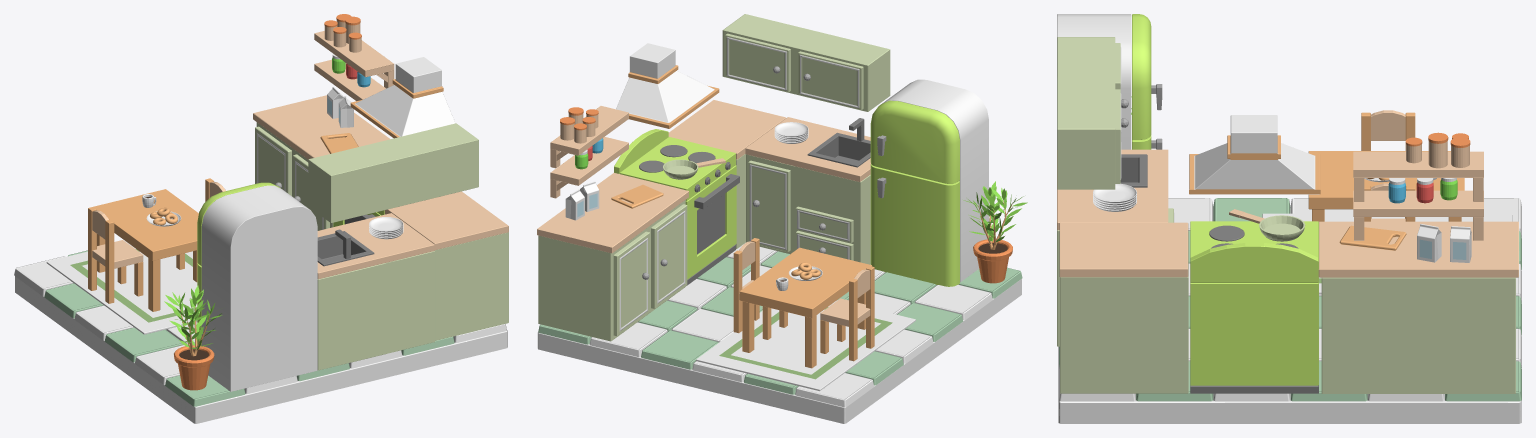
File: Kitchen.fbx
3 views of the same model, side by side, from view 1: azimuth 30°, elevation 25°; view 2: azimuth 150°, elevation 25°; view 3: azimuth 270°, elevation 25° (orthographic). The views are drawn at different scales.
Visible parts, largest first — view 1: Fridge, Counter with sink, Wall shelf, Counter corner, Floor tile, Floor, Counter, Carpet, Table, Hood, Chair.001, Plant (+7 smaller); view 2: Fridge, Floor tile, Counter, Counter with sink, Wall shelf, Stove, Floor, Carpet, Table, Hood, Counter corner, Chair.001 (+9 smaller); view 3: Counter, Counter corner, Stove, Floor, Wall shelf, Floor tile, Hood, Fridge, Counter with sink, Hang shelf, Hang shelf.001, Table (+10 smaller).
Boxes of the visible parts, x1=… form: Fridge: x1=197, y1=182, x2=317, y2=391; Counter with sink: x1=317, y1=213, x2=434, y2=370; Wall shelf: x1=308, y1=123, x2=478, y2=222; Counter corner: x1=384, y1=191, x2=508, y2=340; Floor tile: x1=14, y1=241, x2=506, y2=406; Floor: x1=15, y1=276, x2=507, y2=423; Counter: x1=253, y1=95, x2=390, y2=230; Carpet: x1=46, y1=242, x2=197, y2=334; Table: x1=93, y1=189, x2=198, y2=311; Hood: x1=350, y1=57, x2=455, y2=138; Chair.001: x1=88, y1=207, x2=143, y2=303; Plant: x1=164, y1=285, x2=222, y2=390; Fridge: x1=870, y1=79, x2=988, y2=286; Floor tile: x1=538, y1=243, x2=1022, y2=407; Counter: x1=537, y1=173, x2=688, y2=341; Counter with sink: x1=745, y1=117, x2=870, y2=264; Wall shelf: x1=722, y1=14, x2=890, y2=111; Stove: x1=614, y1=129, x2=739, y2=285; Floor: x1=537, y1=279, x2=1021, y2=423; Carpet: x1=696, y1=300, x2=915, y2=391; Table: x1=739, y1=247, x2=872, y2=368; Hood: x1=616, y1=43, x2=719, y2=128; Counter corner: x1=668, y1=100, x2=785, y2=249; Chair.001: x1=820, y1=266, x2=874, y2=361; Counter: x1=1318, y1=221, x2=1518, y2=393; Counter corner: x1=1059, y1=222, x2=1188, y2=393; Stove: x1=1190, y1=221, x2=1318, y2=393; Floor: x1=1058, y1=207, x2=1521, y2=423; Wall shelf: x1=1057, y1=37, x2=1128, y2=189; Floor tile: x1=1059, y1=198, x2=1521, y2=401; Hood: x1=1189, y1=115, x2=1320, y2=194; Fridge: x1=1057, y1=14, x2=1162, y2=149; Counter with sink: x1=1057, y1=149, x2=1174, y2=346; Hang shelf: x1=1353, y1=190, x2=1483, y2=240; Hang shelf.001: x1=1353, y1=151, x2=1483, y2=201; Table: x1=1308, y1=151, x2=1464, y2=221.
Size of the model in its own units: 754 by 501 by 723.
